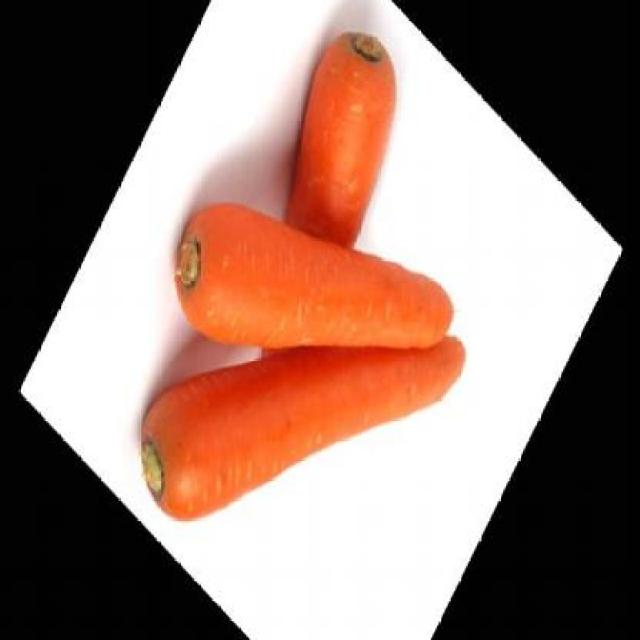carrot: (119, 144, 470, 638), (154, 86, 458, 506), (252, 3, 428, 279)
